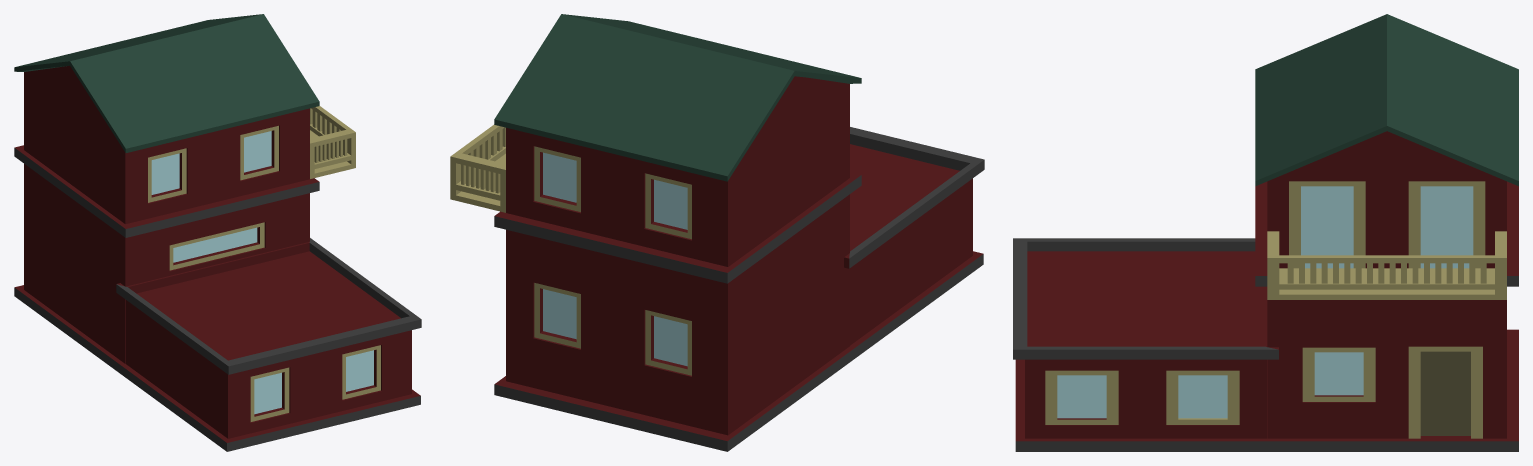
Rendered from mini_torre.fbx.
3 renders of one model, left to right at view 1: azimuth 30°, elevation 25°; view 2: azimuth 150°, elevation 25°; view 3: azimuth 270°, elevation 25°, orthographic. The views are drawn at different scales.
Visible parts, largest first — view 1: building_002; view 2: building_002; view 3: building_002.
Boxes of the visible parts, <box> form: building_002: <box>14,14,421,451</box>; building_002: <box>450,14,984,451</box>; building_002: <box>1013,14,1518,451</box>.
Bounding box in the file's own units: 1180 × 1321 × 1857.
